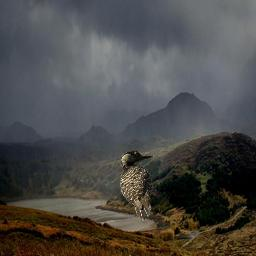Woodpecker: (120, 150, 162, 223)
